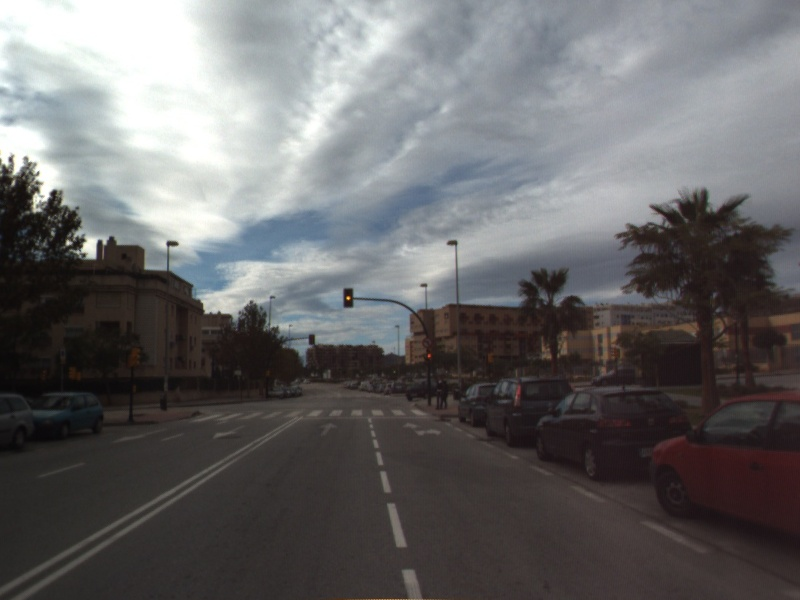STRAIGHT: (317, 420, 340, 438)
STRAIGHT_RIGHT: (400, 420, 443, 438)
